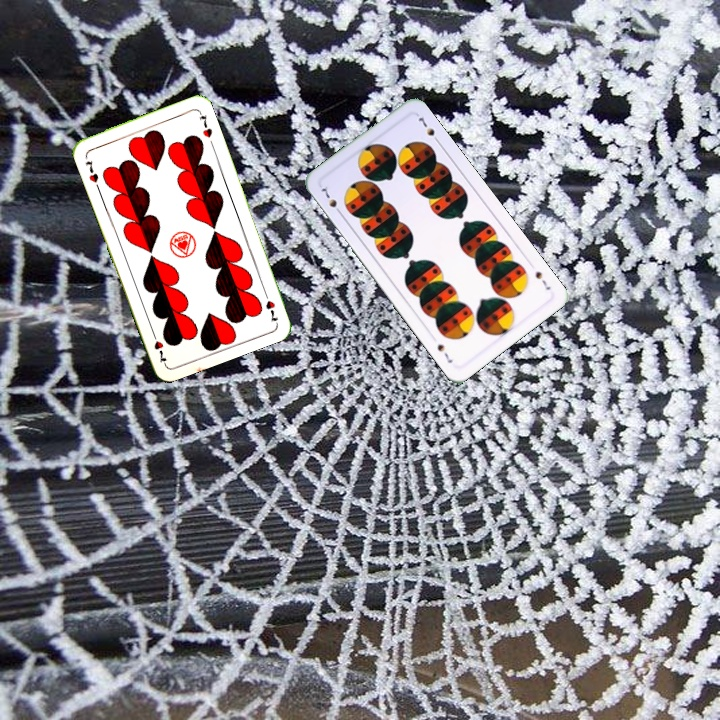H7: (260, 286, 280, 325), (81, 156, 101, 185)
S7: (316, 182, 345, 218), (531, 267, 553, 293)
